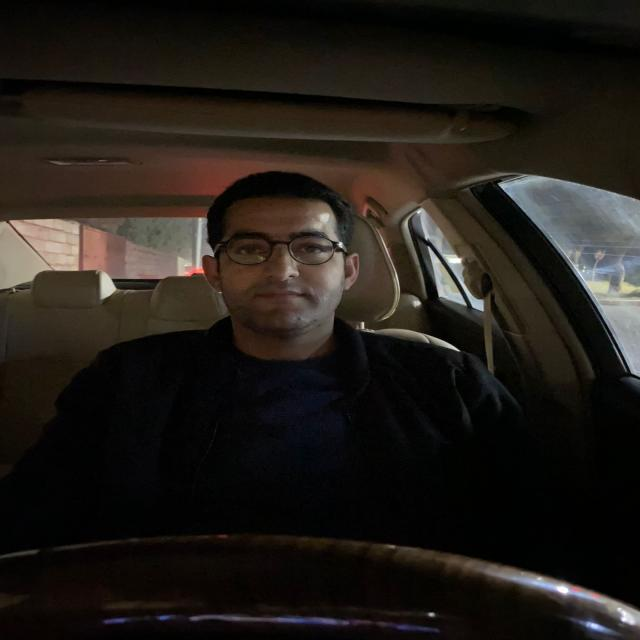person: (205, 184, 355, 330)
